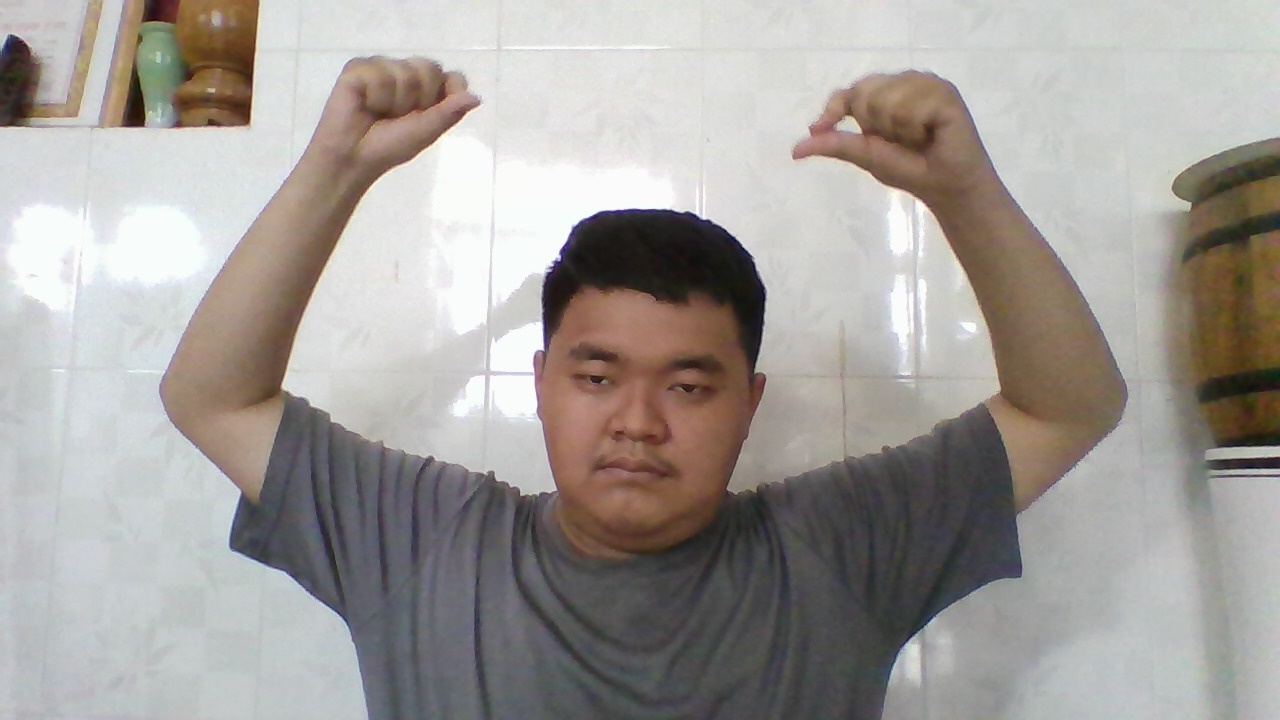S: (790, 63, 962, 204), (336, 51, 491, 177)
